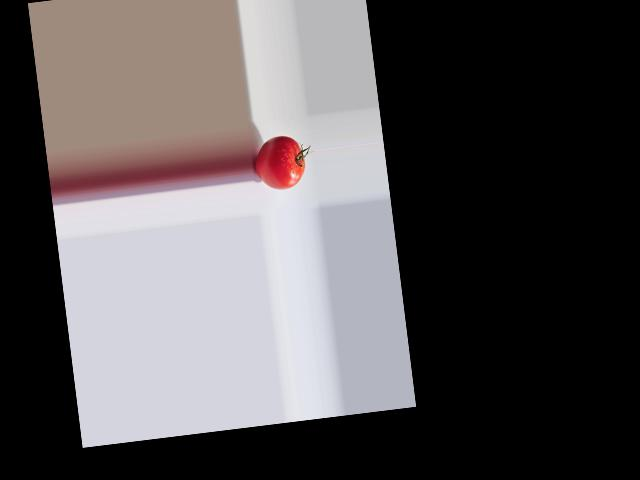tomato: (251, 134, 306, 192)
